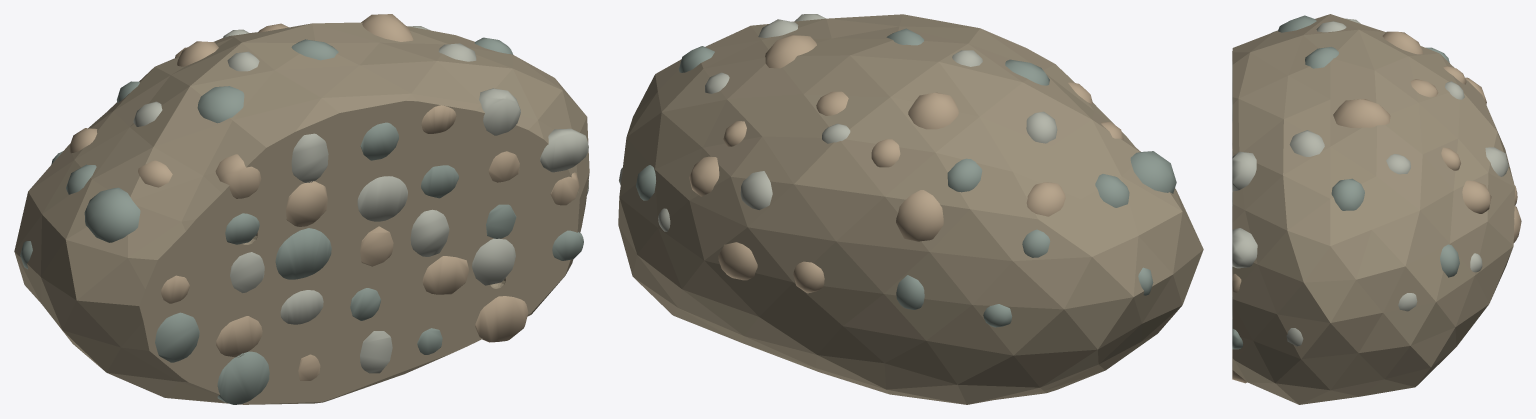
File: conglomerate-outcrop.glb
3 renders of one model, left to right at view 1: azimuth 30°, elevation 25°; view 2: azimuth 150°, elevation 25°; view 3: azimuth 270°, elevation 25°, orthographic. The views are drawn at different scales.
Visible parts, largest first — view 1: continuous finer-grained matrix with original teaching fract, rounded clasts embedded through continuous matrix; view 2: continuous finer-grained matrix with original teaching fract, rounded clasts embedded through continuous matrix; view 3: continuous finer-grained matrix with original teaching fract, rounded clasts embedded through continuous matrix.
Part boxes in pixels (x1,y1,x2,y2): continuous finer-grained matrix with original teaching fract: [14, 22, 589, 404]; rounded clasts embedded through continuous matrix: [20, 14, 588, 404]; continuous finer-grained matrix with original teaching fract: [618, 14, 1203, 404]; rounded clasts embedded through continuous matrix: [619, 14, 1176, 327]; continuous finer-grained matrix with original teaching fract: [1232, 14, 1514, 404]; rounded clasts embedded through continuous matrix: [1232, 15, 1521, 383].
Bounding box in the file's own units: 0.8 × 0.4476 × 0.4143.
